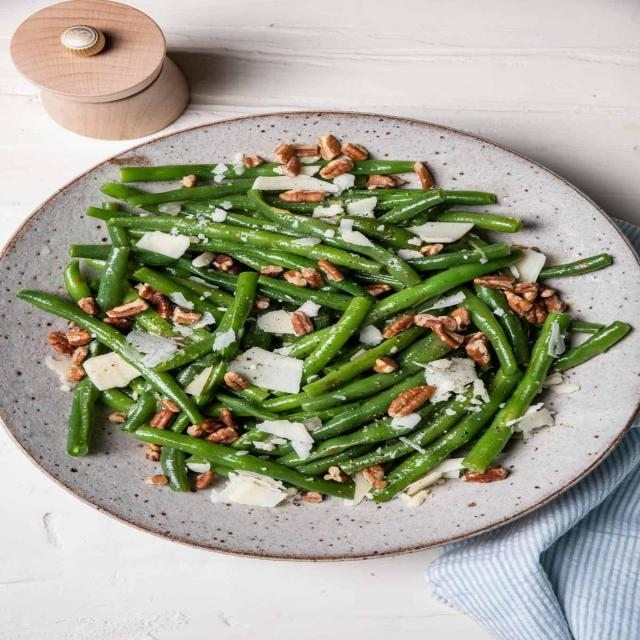Beans: (22, 130, 630, 519)
